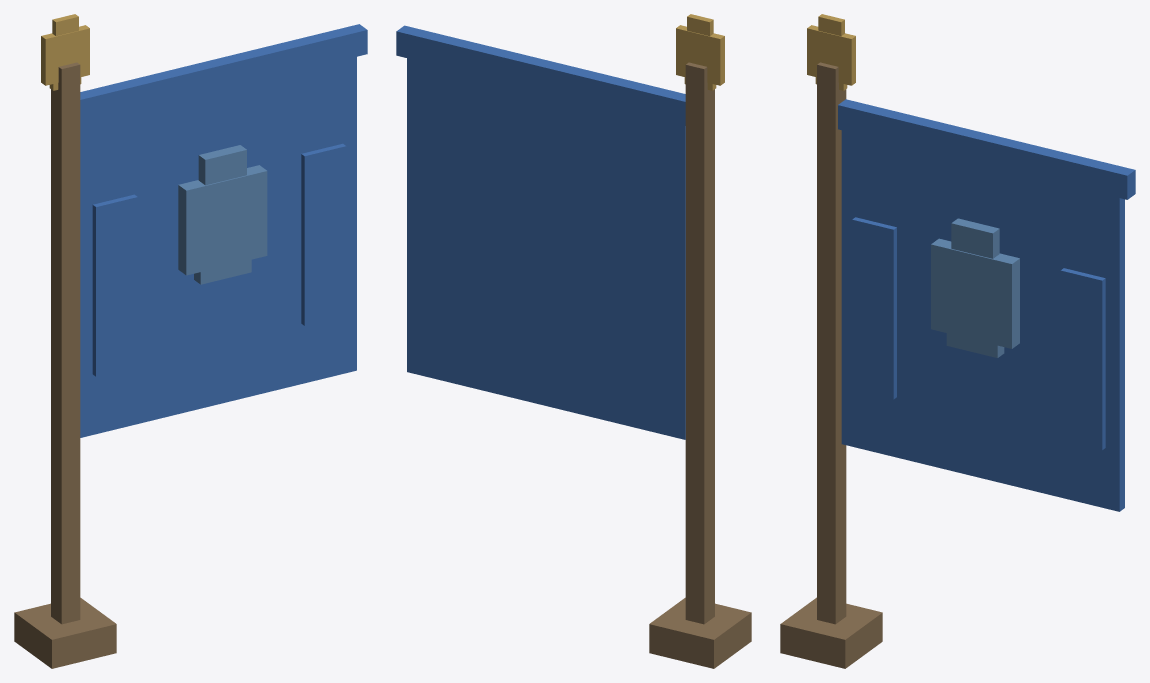
File: cosmetic_banner_cobalt_pennant.glb
The picture shows the model from 3 angles, left to right: view 1: azimuth 30°, elevation 25°; view 2: azimuth 150°, elevation 25°; view 3: azimuth 330°, elevation 25°; orthographic projection.
Parts seen in each view (by area): view 1: CosmeticArt_cloth, CosmeticArt_pole, CosmeticArt_crest, CosmeticArt_finial; view 2: CosmeticArt_cloth, CosmeticArt_pole, CosmeticArt_finial; view 3: CosmeticArt_cloth, CosmeticArt_pole, CosmeticArt_crest, CosmeticArt_finial.
Boxes of the visible parts, left/top/right/bottom form: CosmeticArt_cloth: left=80, top=24, right=367, bottom=437; CosmeticArt_pole: left=14, top=62, right=116, bottom=668; CosmeticArt_crest: left=178, top=145, right=267, bottom=284; CosmeticArt_finial: left=41, top=14, right=89, bottom=90; CosmeticArt_cloth: left=396, top=25, right=685, bottom=439; CosmeticArt_pole: left=649, top=62, right=751, bottom=668; CosmeticArt_finial: left=676, top=14, right=724, bottom=90; CosmeticArt_cloth: left=838, top=99, right=1135, bottom=511; CosmeticArt_pole: left=780, top=62, right=882, bottom=668; CosmeticArt_crest: left=931, top=218, right=1019, bottom=357; CosmeticArt_finial: left=807, top=14, right=855, bottom=90.
Size of the model in its own units: 1.43 by 2.6 by 0.28.
